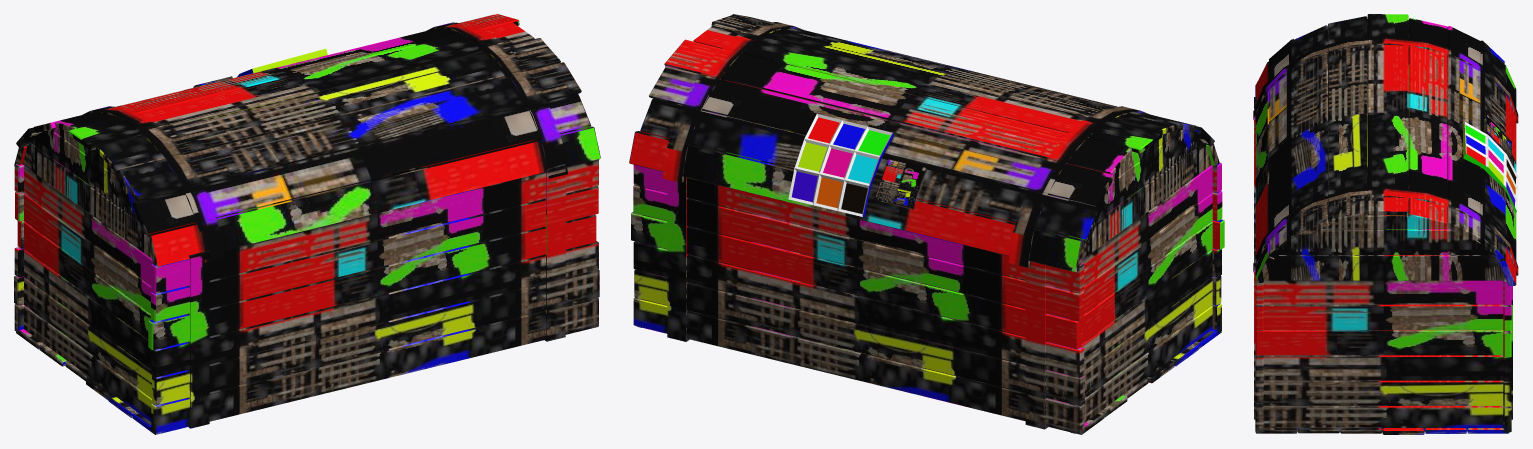
File: PuzzleChest.FBX
3 renders of one model, left to right at view 1: azimuth 30°, elevation 25°; view 2: azimuth 150°, elevation 25°; view 3: azimuth 270°, elevation 25°, orthographic. The views are drawn at different scales.
Parts seen in each view (by area): view 1: Box032, Box034, Box035; view 2: Box032, Box034, Box035, Box036; view 3: Box034, Box032, Box035, Box036.
Boxes of the visible parts, x1,y1,x2,y2 form: Box032: (14, 159, 599, 434); Box034: (14, 14, 600, 266); Box035: (237, 48, 327, 76); Box032: (631, 163, 1224, 434); Box034: (629, 14, 1219, 272); Box035: (788, 114, 893, 216); Box036: (874, 159, 927, 209); Box034: (1253, 14, 1518, 285); Box032: (1254, 85, 1512, 434); Box035: (1462, 121, 1518, 212); Box036: (1484, 115, 1511, 159).
Size of the model in its own units: 121 by 63.31 by 67.81.
12 materials, 2 textured.
